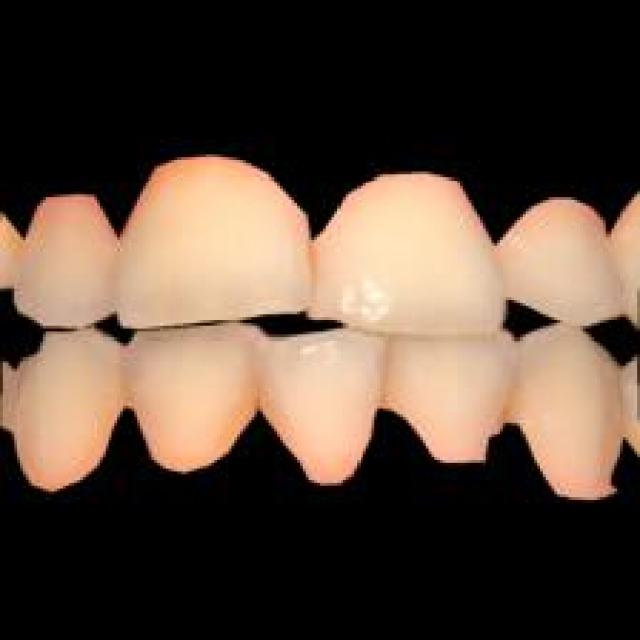cavity: (492, 371, 532, 423), (237, 380, 277, 411), (369, 363, 397, 406), (109, 383, 140, 408)
tooth: (308, 168, 506, 332), (126, 148, 306, 326), (512, 323, 634, 517), (257, 328, 394, 486), (126, 332, 271, 474), (386, 326, 520, 466), (14, 328, 123, 486), (494, 180, 614, 323), (20, 191, 120, 323)
